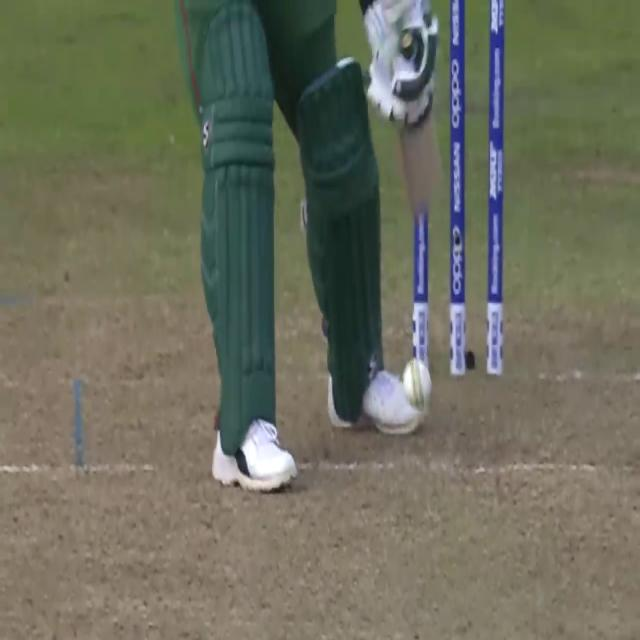ball: (398, 353, 434, 416)
